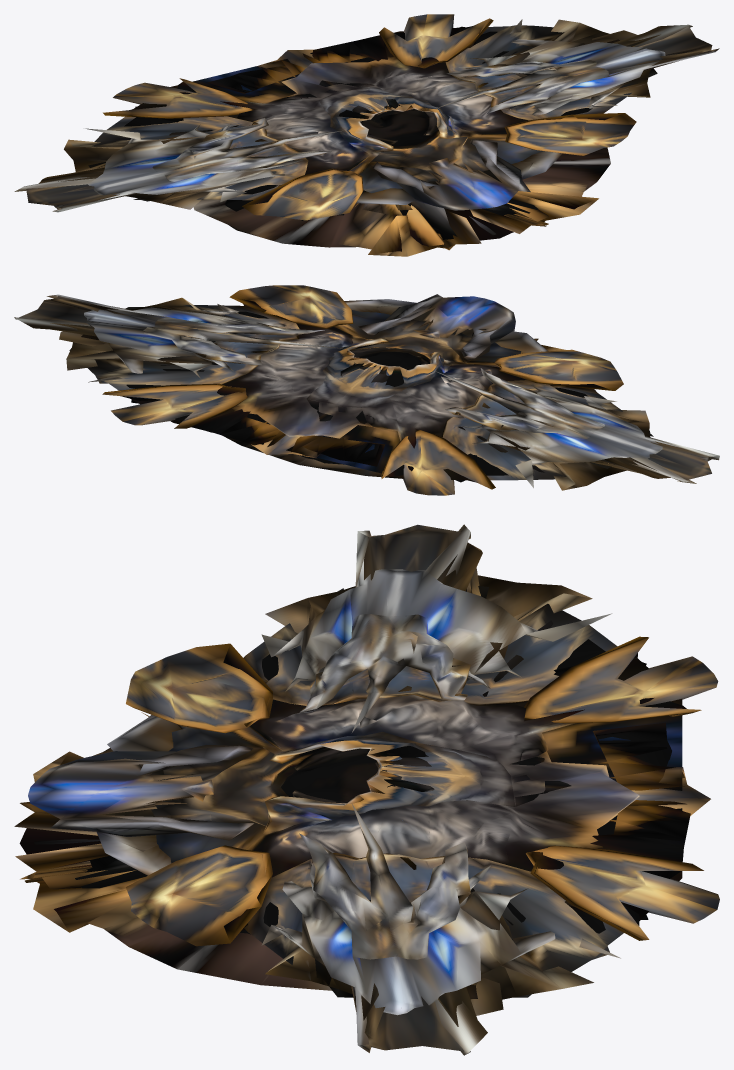
File: ruestung.brust.drachenpanzer.glb
3 renders of one model, top to bottom at view 1: azimuth 30°, elevation 25°; view 2: azimuth 150°, elevation 25°; view 3: azimuth 270°, elevation 25°, orthographic. The views are drawn at different scales.
Visible parts, largest first — view 1: geometry_0; view 2: geometry_0; view 3: geometry_0.
Boxes of the visible parts, <box> form: geometry_0: <box>14,14,719,256</box>; geometry_0: <box>14,285,719,495</box>; geometry_0: <box>14,524,719,1055</box>.
Bounding box in the file's own units: 6.62 × 0.62 × 3.72.
1 material, 1 textured.
